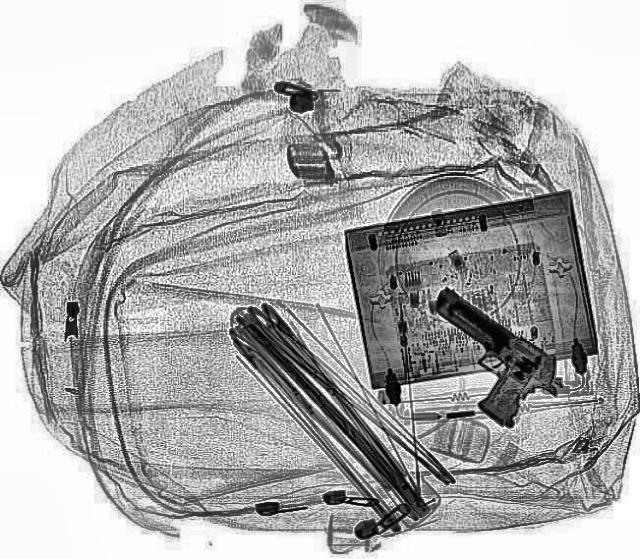Gun: (382, 282, 580, 434)
